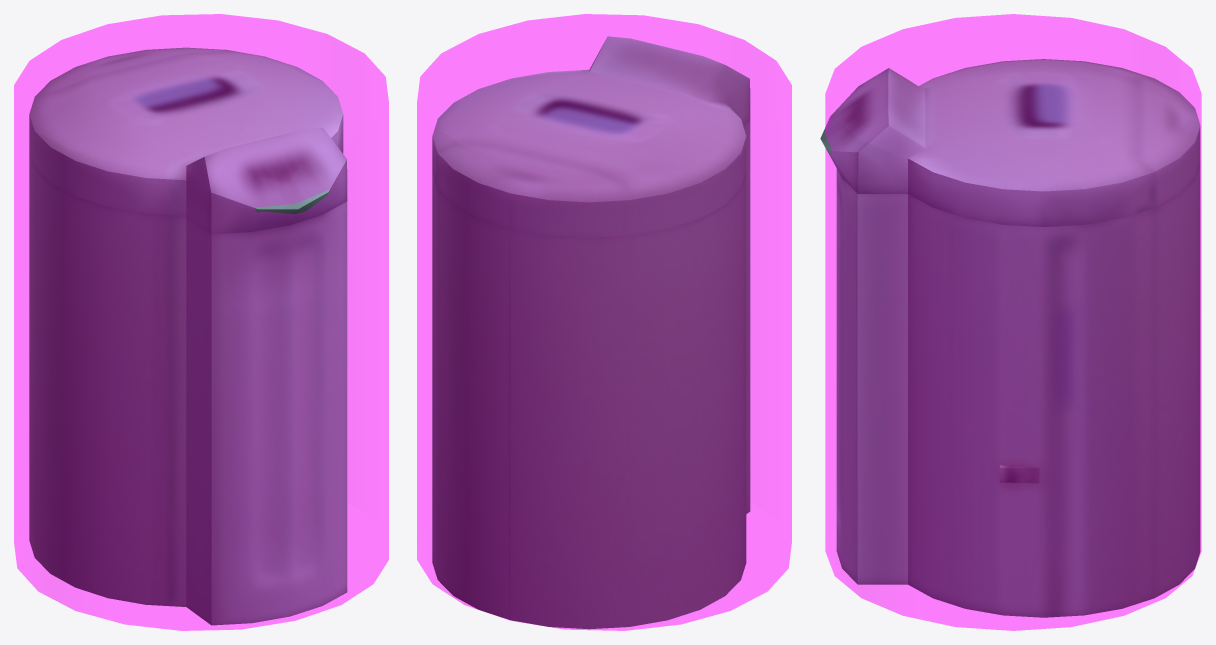
Rendered from humidifier.fbx.
3 views of the same model, side by side, from view 1: azimuth 30°, elevation 25°; view 2: azimuth 150°, elevation 25°; view 3: azimuth 270°, elevation 25° (orthographic).
Parts seen in each view (by area): view 1: humidifier_boundingbox, humidifier; view 2: humidifier_boundingbox, humidifier; view 3: humidifier_boundingbox, humidifier.
Part boxes in pixels (box(x1,y1,x2,y2)): humidifier_boundingbox: box(14, 14, 388, 630); humidifier: box(29, 47, 347, 625); humidifier_boundingbox: box(417, 14, 791, 630); humidifier: box(432, 36, 750, 629); humidifier_boundingbox: box(825, 14, 1201, 630); humidifier: box(820, 59, 1200, 617).
Bounding box in the file's own units: 30 × 40.3 × 30.41.
Materials: 2 (1 with a texture image).
